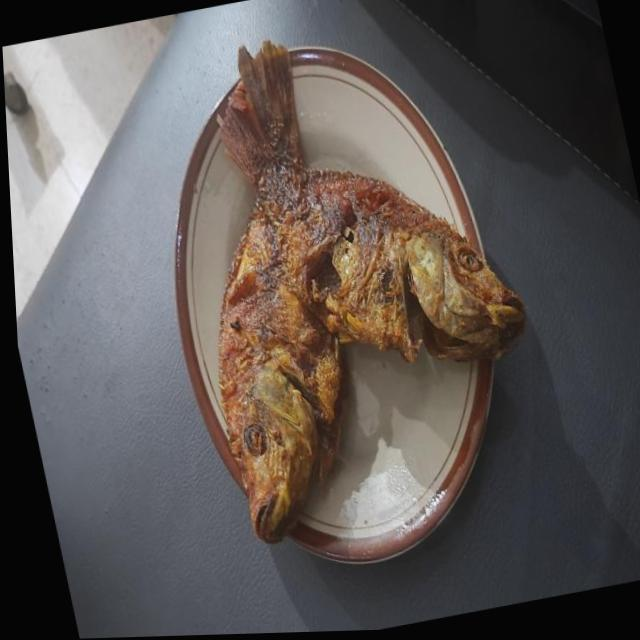ikan_mujair: (222, 96, 524, 362), (220, 38, 348, 545)
